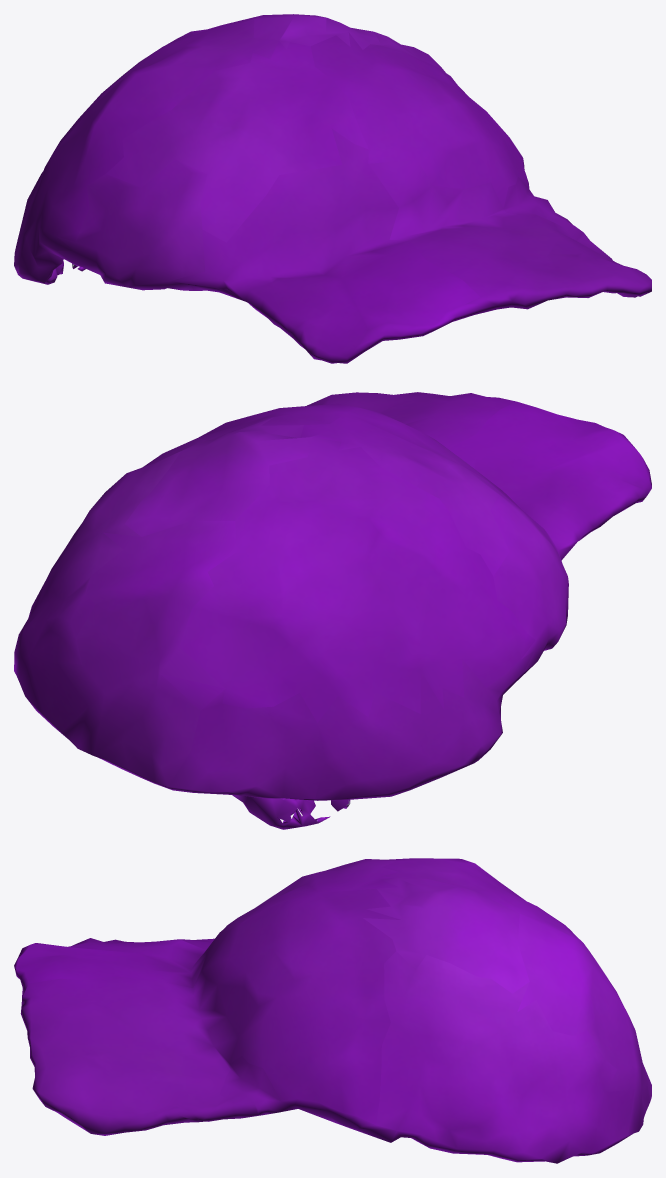
The model's file is cap purple.glb.
3 views of the same model, one above another, from view 1: azimuth 30°, elevation 25°; view 2: azimuth 150°, elevation 25°; view 3: azimuth 270°, elevation 25° (orthographic). The views are drawn at different scales.
Visible parts, largest first — view 1: cap_purple.001; view 2: cap_purple.001; view 3: cap_purple.001.
Boxes of the visible parts, x1=… form: cap_purple.001: x1=14, y1=14, x2=651, y2=363; cap_purple.001: x1=14, y1=392, x2=651, y2=829; cap_purple.001: x1=14, y1=858, x2=651, y2=1163.
Size of the model in its own units: 0.3439 by 0.2081 by 0.4611.
1 material, 1 textured.
